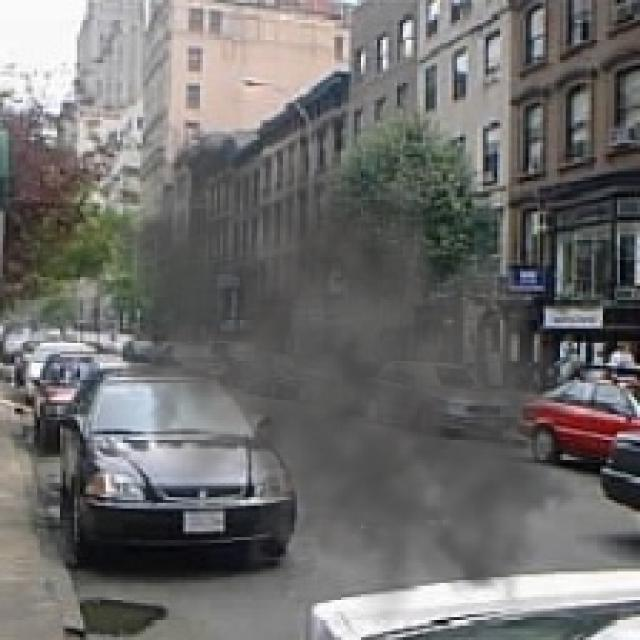smoke: (74, 97, 612, 632)
